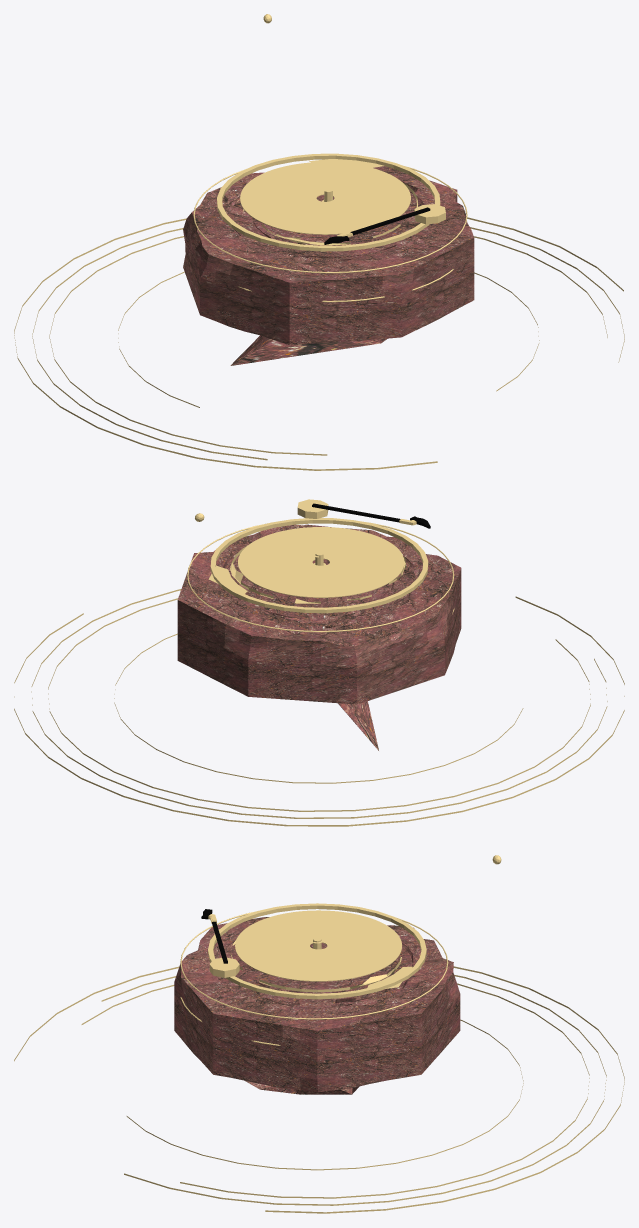
The model's file is vinyl_animated.glb.
3 renders of one model, top to bottom at view 1: azimuth 30°, elevation 25°; view 2: azimuth 150°, elevation 25°; view 3: azimuth 270°, elevation 25°, orthographic. The views are drawn at different scales.
Parts seen in each view (by area): view 1: Cube, Vinyl, Disk, Cylinder.004, Circle.007, Circle.004, Circle.006, BézierCircle; view 2: Cube, Vinyl, Disk, Cylinder.004, Circle.007, Circle.004, Circle.006, BézierCircle, Circle.003, Cube.004; view 3: Cube, Vinyl, Disk, Cylinder.004, Circle.007, Circle.004, Circle.006, BézierCircle, Circle.003, Cube.026, Cube.004.
Boxes of the visible parts, x1,y1,x2,y2 form: Cube: [183, 166, 474, 365]; Vinyl: [240, 162, 410, 234]; Disk: [213, 180, 437, 257]; Cylinder.004: [217, 153, 440, 251]; Circle.007: [14, 217, 623, 470]; Circle.004: [32, 227, 624, 460]; Circle.006: [49, 236, 607, 455]; BézierCircle: [193, 166, 467, 273]; Cube: [177, 524, 461, 750]; Vinyl: [238, 527, 404, 597]; Disk: [219, 524, 415, 624]; Cylinder.004: [210, 518, 428, 613]; Circle.007: [14, 596, 624, 826]; Circle.004: [31, 589, 607, 818]; Circle.006: [48, 598, 590, 811]; BézierCircle: [187, 521, 454, 632]; Circle.003: [114, 633, 523, 783]; Cube.004: [297, 499, 328, 518]; Cube: [174, 917, 460, 1094]; Vinyl: [235, 910, 401, 981]; Disk: [209, 925, 419, 1007]; Cylinder.004: [208, 903, 426, 999]; Circle.007: [14, 966, 624, 1213]; Circle.004: [101, 975, 606, 1205]; Circle.006: [81, 983, 589, 1198]; BézierCircle: [180, 911, 448, 1019]; Circle.003: [126, 1019, 523, 1170]; Cube.026: [259, 956, 401, 992]; Cube.004: [209, 957, 239, 977].
Bounding box in the file's own units: 11.43 × 5.43 × 11.35.
Materials: 21 (20 with a texture image).
